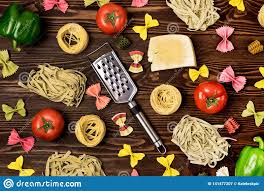Tomato: (93, 3, 135, 35), (189, 83, 232, 114), (34, 107, 62, 139)
